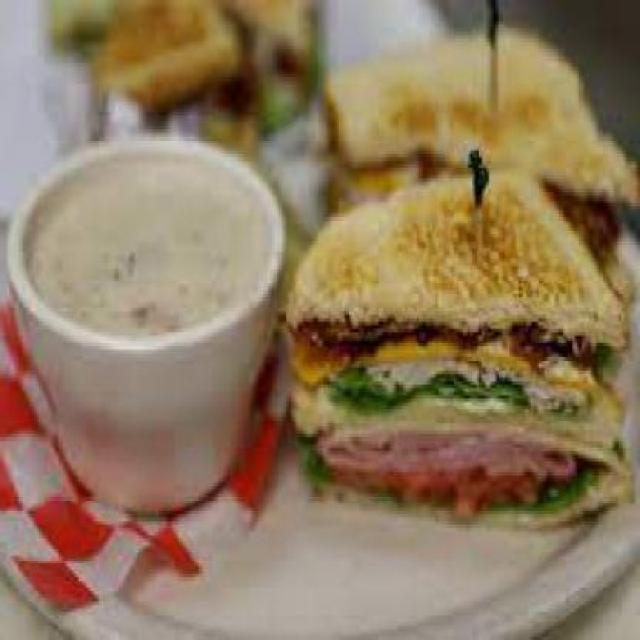clam chowder: (2, 144, 287, 479)
club sandwich: (54, 3, 321, 129)
